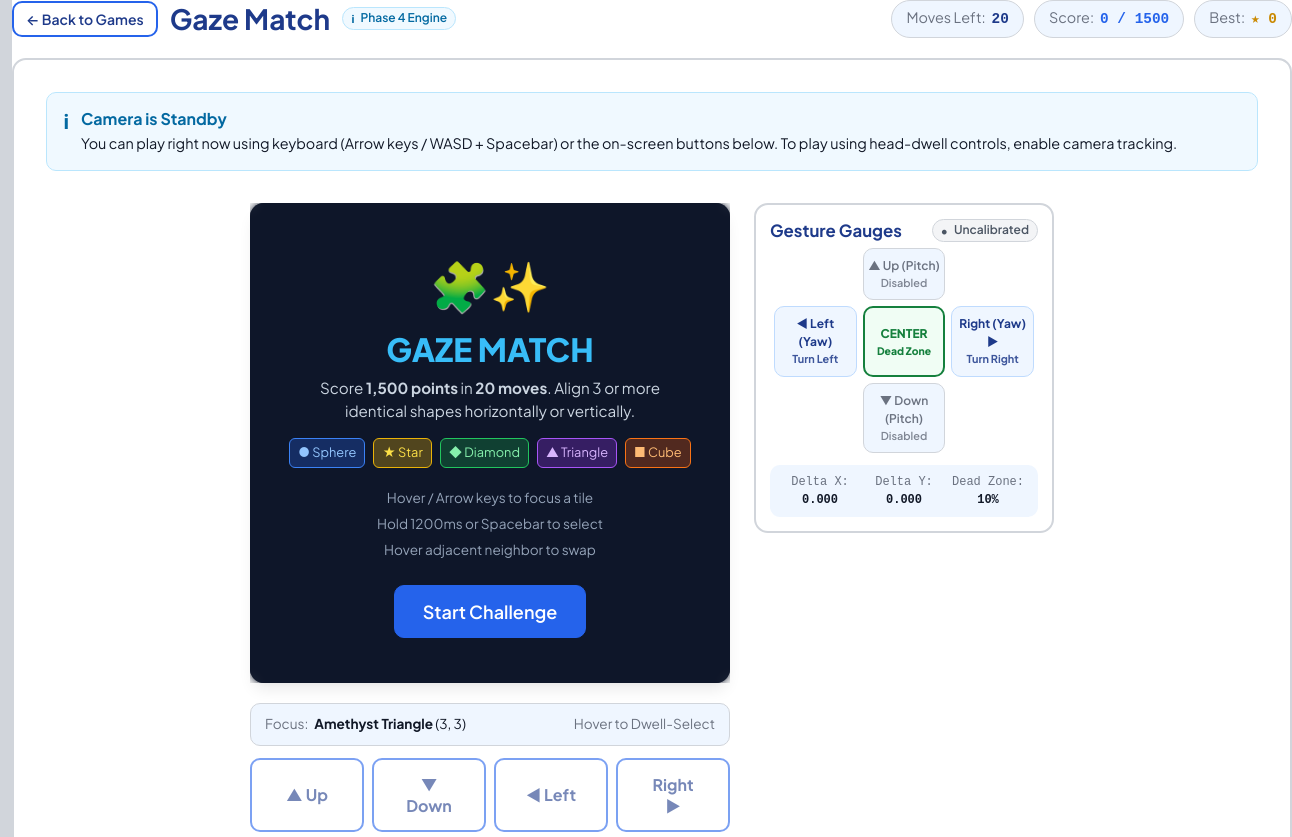
Test: GazeMatch Component & UX Integration › 4. Selecting a tile highlights it as Source and Cancel button clears selection
This screenshot has width=1292, height=837.
Click the button "Start Challenge": (490, 611) [394,585,586,638]
(page scrolled)
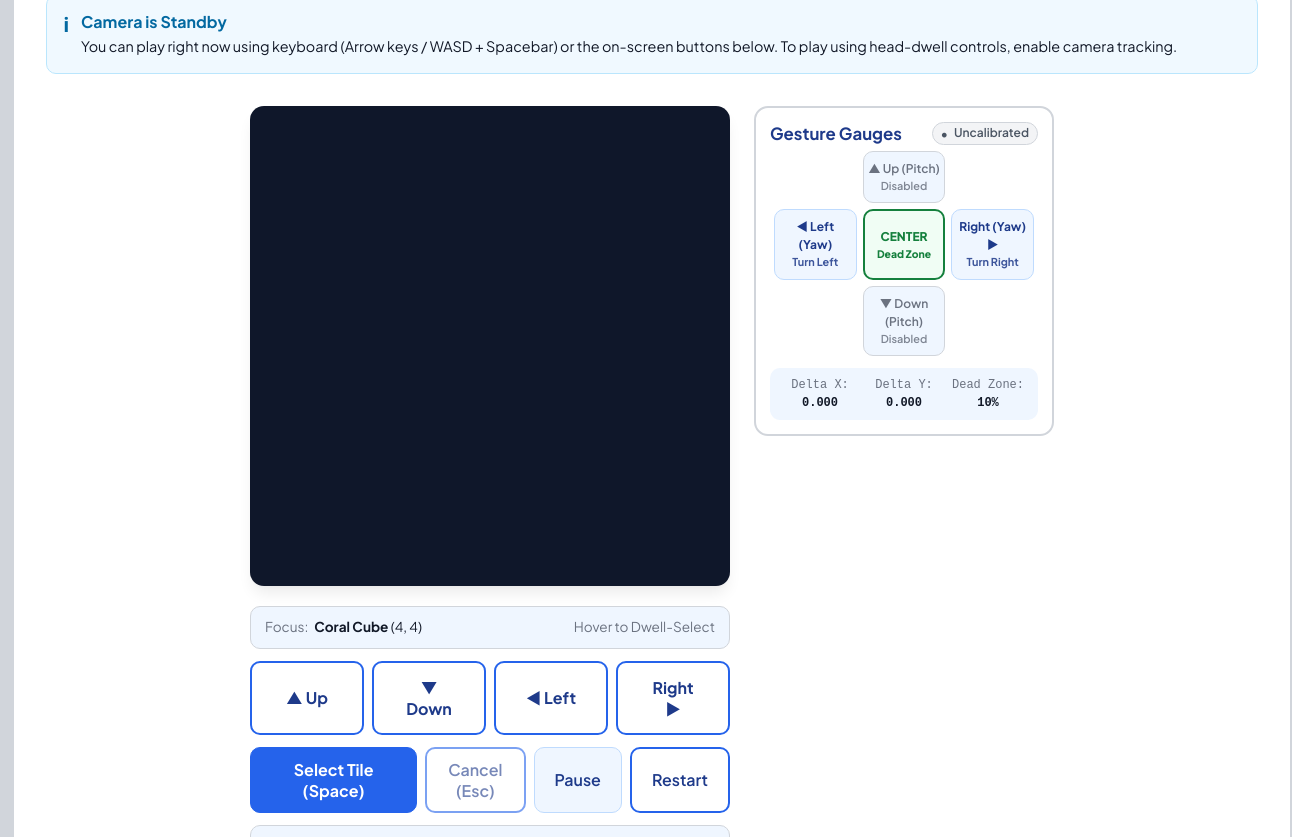
Note: Click Select Tile
Click the button "Select Tile (Space)": (334, 780) [250,747,417,813]
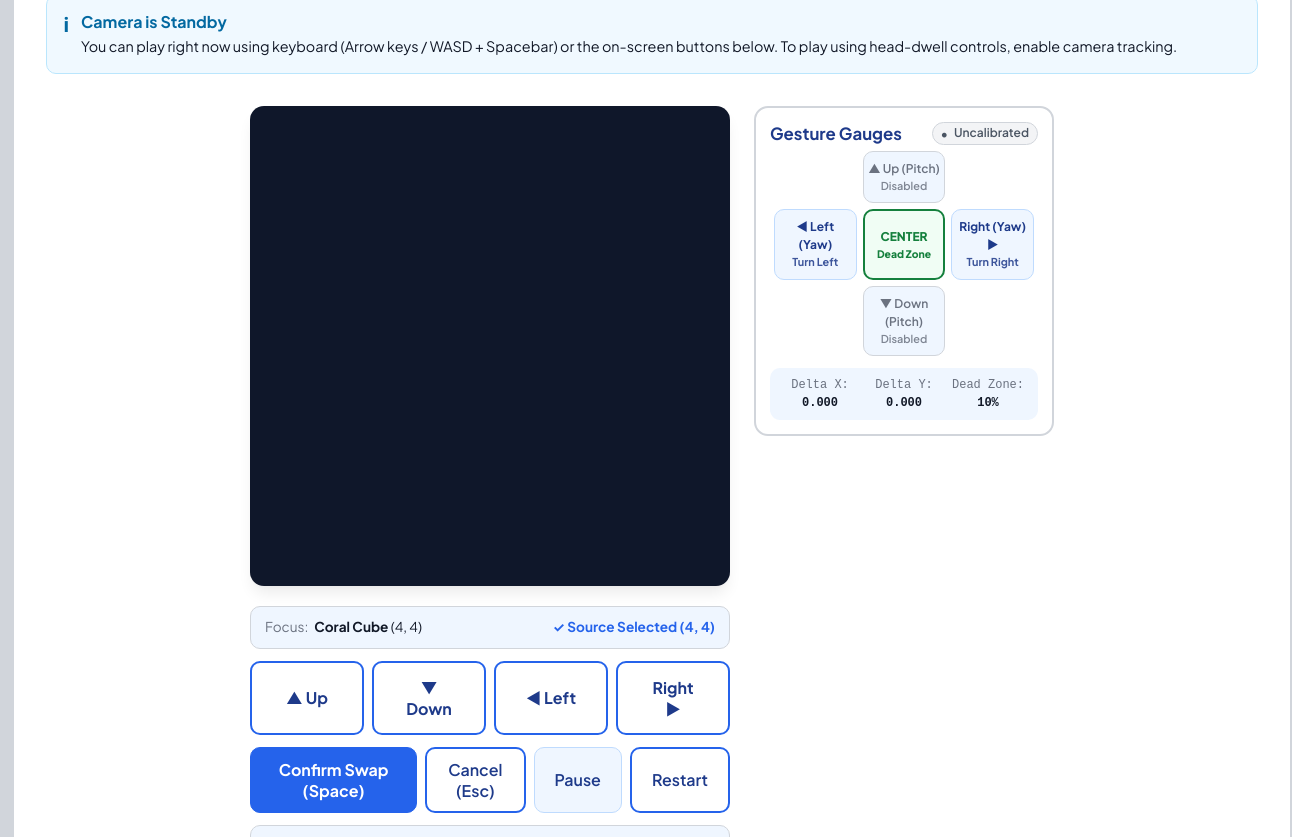
Now the button "Confirm Swap (Space)" is shown, box [250,747,417,813]
Now the text "✓ Source Selected (4, 4)" is shown, box [553,618,715,635]
Now the button "Cancel (Esc)" is enabled
Note: Click Cancel
Click the button "Cancel (Esc)": (475, 780) [425,747,526,813]
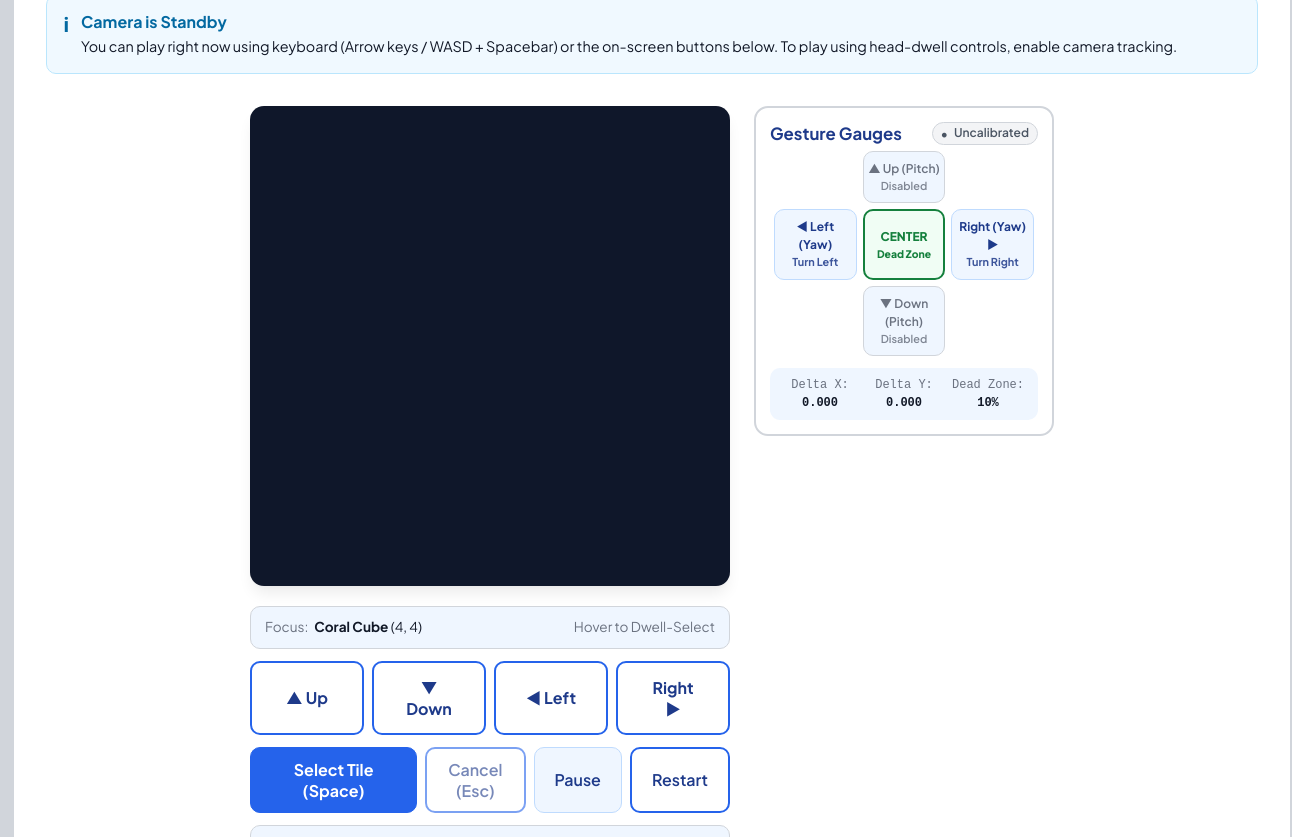
Now the text "Hover to Dwell-Select" is shown, box [574,618,715,635]
